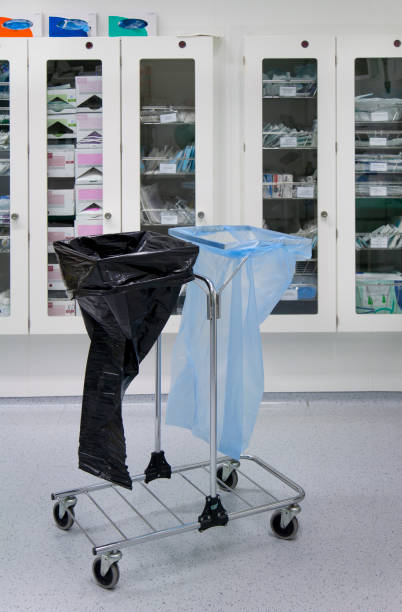cabinet: (2, 38, 400, 333)
handle: (10, 208, 23, 229), (102, 206, 115, 227), (319, 205, 332, 226), (195, 206, 207, 227)
utility_cart: (43, 213, 318, 570)
waste_bin: (52, 230, 200, 491), (165, 220, 311, 457)
